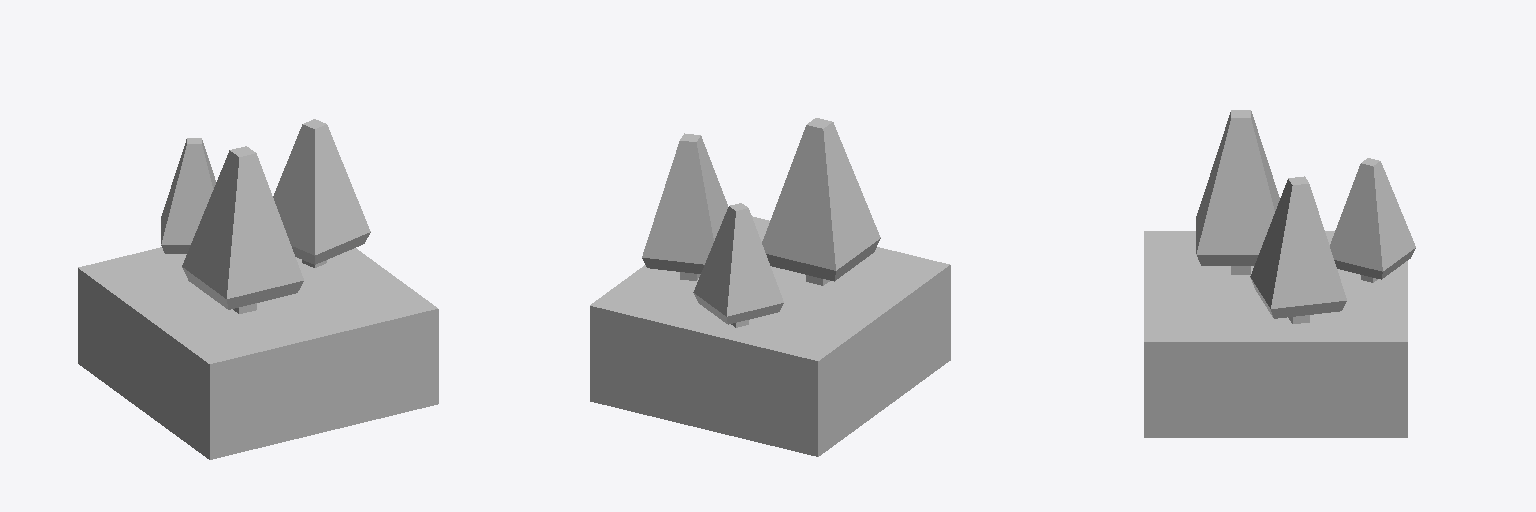
Rendered from tile_061.obj.
3 renders of one model, left to right at view 1: azimuth 30°, elevation 25°; view 2: azimuth 150°, elevation 25°; view 3: azimuth 270°, elevation 25°, orthographic.
Parts seen in each view (by area): view 1: tile_061, Component#2; view 2: tile_061, Component#2; view 3: tile_061, Component#2.
Boxes of the visible parts, box(x1,y1,x2,y2) form: tile_061: box(78, 247, 438, 459); Component#2: box(161, 119, 370, 313); tile_061: box(590, 216, 950, 456); Component#2: box(642, 118, 880, 327); tile_061: box(1144, 231, 1407, 437); Component#2: box(1196, 110, 1415, 323).
Size of the model in its own units: 1 by 1.06 by 1.03.